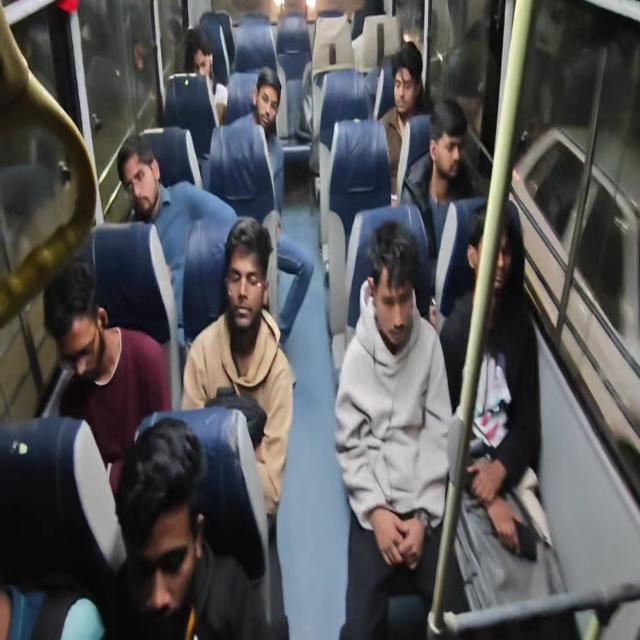person: (122, 387, 272, 640), (44, 242, 141, 425), (105, 136, 205, 262), (0, 450, 58, 640), (218, 223, 272, 324), (462, 203, 526, 288), (392, 59, 443, 161), (378, 226, 429, 324), (429, 102, 469, 202), (180, 31, 232, 90), (242, 80, 284, 141)
